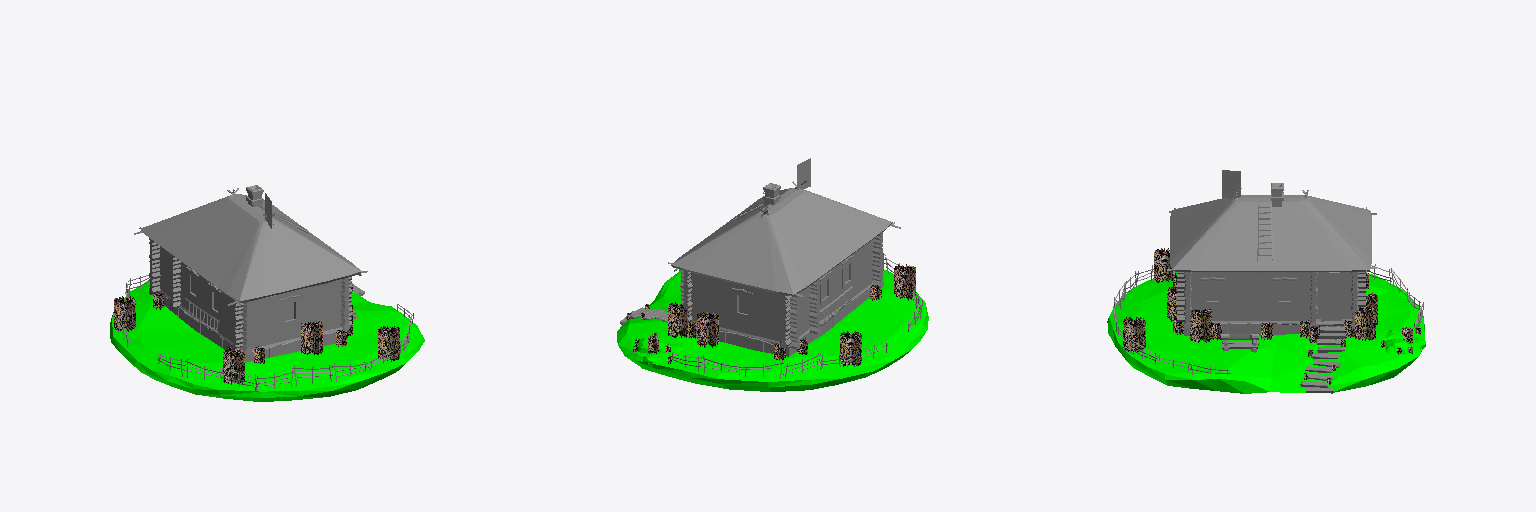
3 views of the same model, side by side, from view 1: azimuth 30°, elevation 25°; view 2: azimuth 150°, elevation 25°; view 3: azimuth 270°, elevation 25° (orthographic).
Parts seen in each view (by area): view 1: hatka_local_; view 2: hatka_local_; view 3: hatka_local_.
Boxes of the visible parts, x1,y1,x2,y2 form: hatka_local_: [110, 185, 424, 401]; hatka_local_: [617, 158, 928, 391]; hatka_local_: [1107, 170, 1425, 393].
Bounding box in the file's own units: 8.78 × 4.24 × 9.56.
Materials: 5 (1 with a texture image).